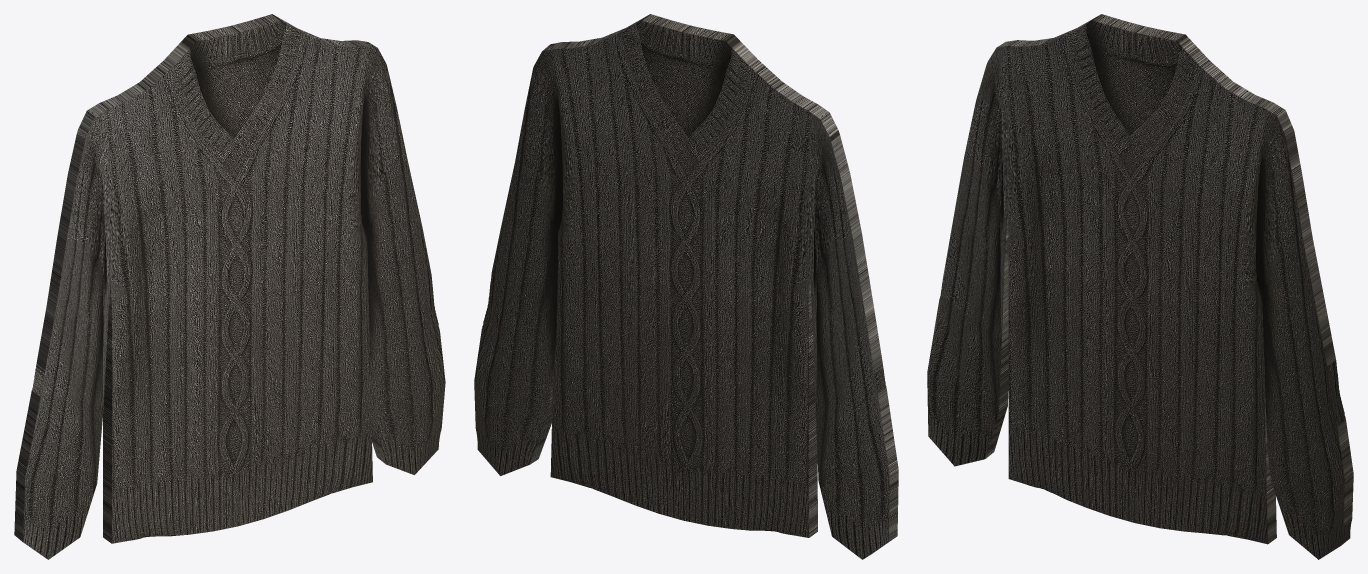
File: 服第三号.fbx
3 views of the same model, side by side, from view 1: azimuth 30°, elevation 25°; view 2: azimuth 150°, elevation 25°; view 3: azimuth 330°, elevation 25° (orthographic).
Visible parts, largest first — view 1: 平面; view 2: 平面; view 3: 平面.
Boxes of the visible parts, left/top/right/bottom form: 平面: left=14, top=14, right=445, bottom=559; 平面: left=474, top=14, right=898, bottom=559; 平面: left=927, top=14, right=1353, bottom=559.
Bounding box in the file's own units: 54.21 × 60.98 × 3.08.
Materials: 1 (1 with a texture image).
